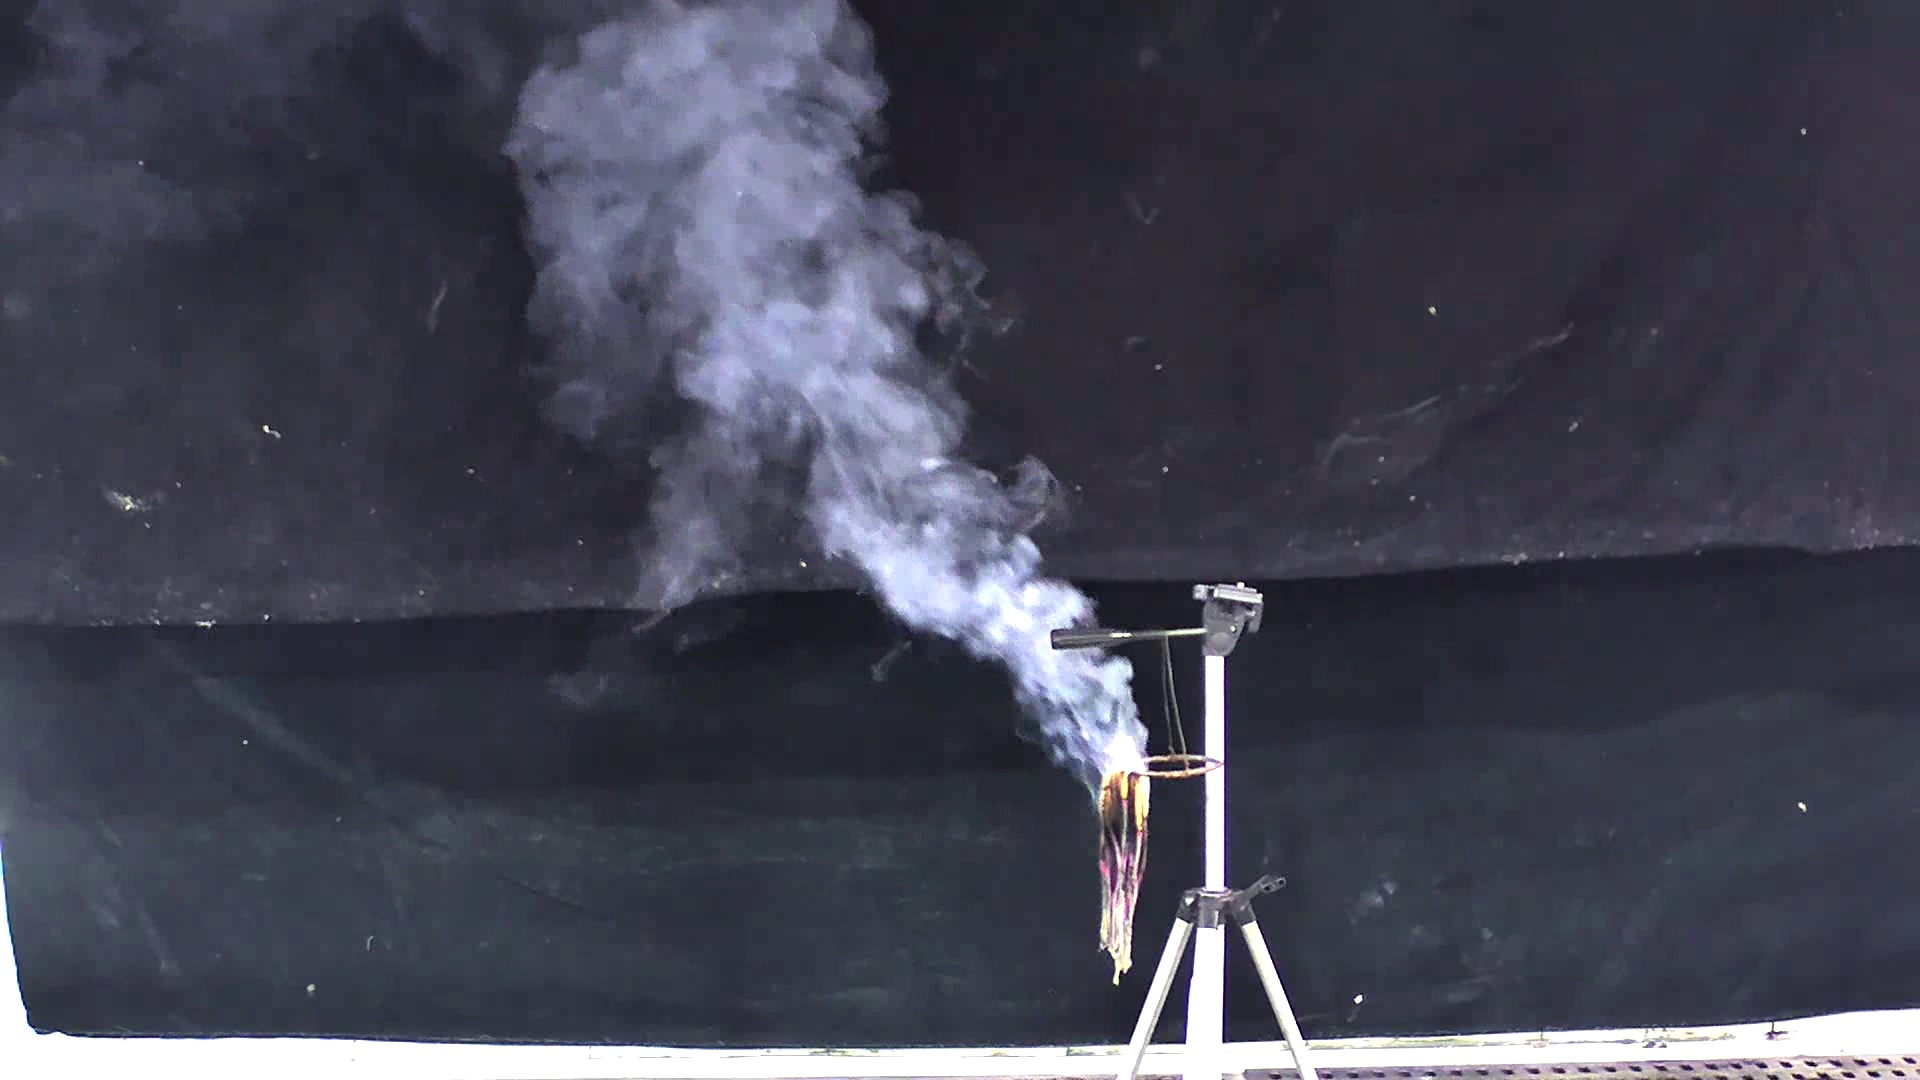smoke: (512, 11, 1167, 796)
